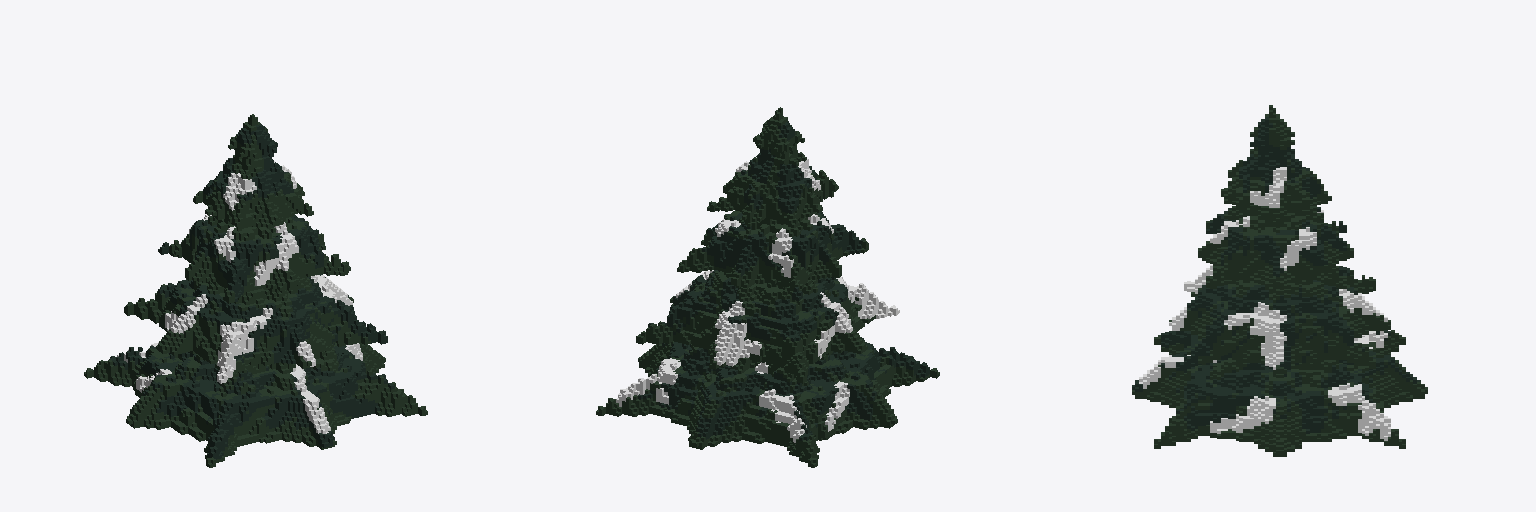
3 views of the same model, side by side, from view 1: azimuth 30°, elevation 25°; view 2: azimuth 150°, elevation 25°; view 3: azimuth 270°, elevation 25° (orthographic).
Visible parts, largest first — view 1: object 1; view 2: object 1; view 3: object 1.
Part boxes in pixels (x1,y1,x2,y2): object 1: (84,114,427,467); object 1: (596,107,939,467); object 1: (1132,105,1427,456).
Size of the model in its own units: 8 by 8.7 by 8.
1 materials, 1 textured.